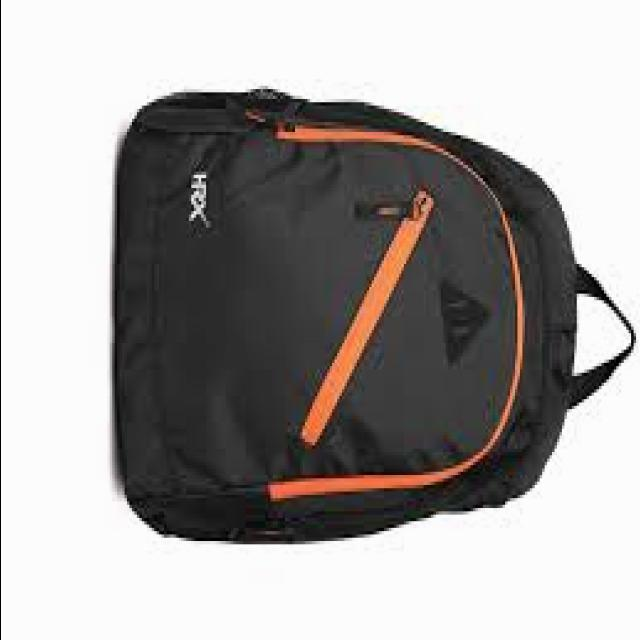backpack: (115, 87, 639, 545)
